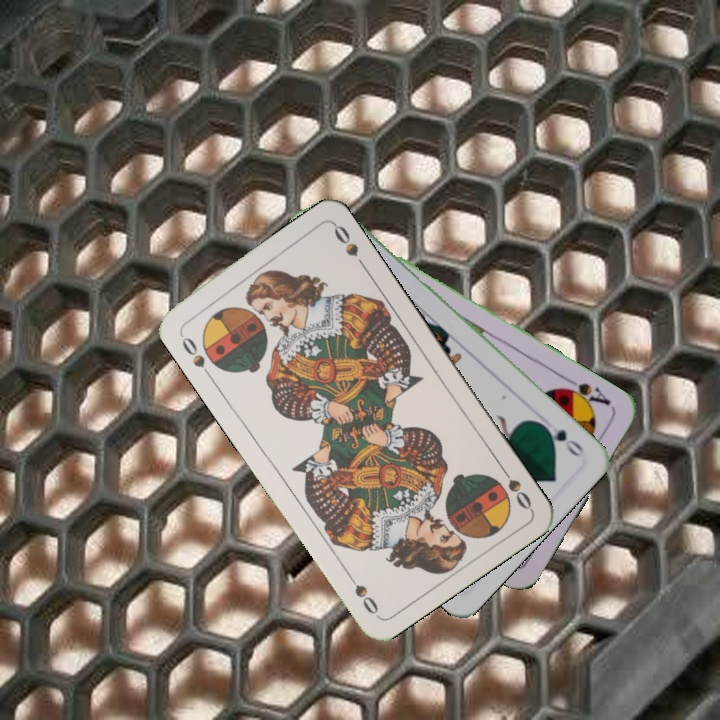GO: (536, 419, 587, 460)
SA: (556, 373, 613, 412)
SO: (495, 460, 535, 512), (175, 328, 208, 371)
